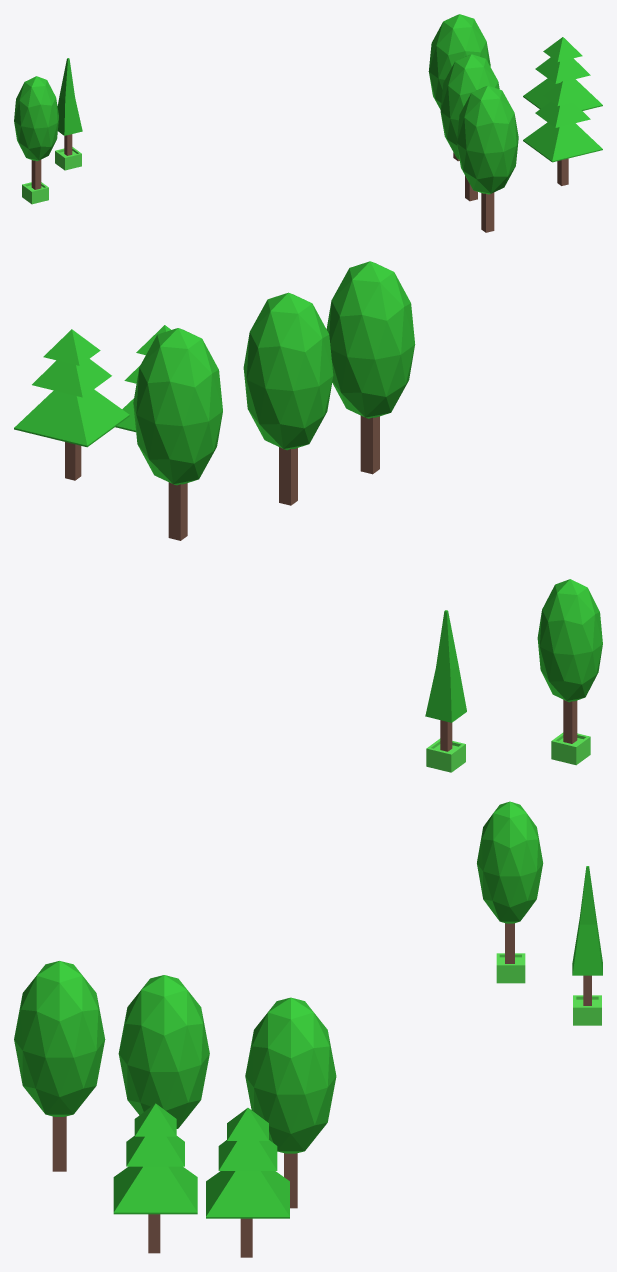
Rendered from Tree.fbx.
3 renders of one model, top to bottom at view 1: azimuth 30°, elevation 25°; view 2: azimuth 150°, elevation 25°; view 3: azimuth 270°, elevation 25°, orthographic. The views are drawn at different scales.
Visible parts, largest first — view 1: 棱角球.095, 立方体.3210, 立方体.3907, 棱角球.090, 棱角球.089, 立方体.3909, 立方体.3224; view 2: 棱角球.089, 棱角球.090, 棱角球.095, 立方体.3210, 立方体.3909, 立方体.3224, 立方体.3907; view 3: 棱角球.095, 棱角球.089, 棱角球.090, 立方体.3210, 立方体.3907, 立方体.3909, 立方体.3224.
Boxes of the visible parts, bbox=[...] form: 棱角球.095: bbox=[456, 85, 518, 232]; 立方体.3210: bbox=[14, 76, 58, 204]; 立方体.3907: bbox=[523, 81, 602, 185]; 棱角球.090: bbox=[440, 54, 499, 201]; 棱角球.089: bbox=[428, 14, 490, 161]; 立方体.3909: bbox=[523, 37, 602, 110]; 立方体.3224: bbox=[55, 58, 82, 170]; 棱角球.089: bbox=[133, 328, 222, 540]; 棱角球.090: bbox=[243, 292, 333, 505]; 棱角球.095: bbox=[326, 261, 415, 474]; 立方体.3210: bbox=[537, 579, 602, 765]; 立方体.3909: bbox=[14, 329, 129, 480]; 立方体.3224: bbox=[425, 610, 466, 772]; 立方体.3907: bbox=[115, 325, 170, 432]; 棱角球.095: bbox=[14, 961, 105, 1171]; 棱角球.089: bbox=[245, 997, 336, 1208]; 棱角球.090: bbox=[118, 975, 209, 1128]; 立方体.3210: bbox=[477, 801, 543, 983]; 立方体.3907: bbox=[113, 1103, 197, 1253]; 立方体.3909: bbox=[206, 1108, 289, 1257]; 立方体.3224: bbox=[572, 866, 602, 1025].
Bounding box in the file's own units: 1124 × 349 × 830.
